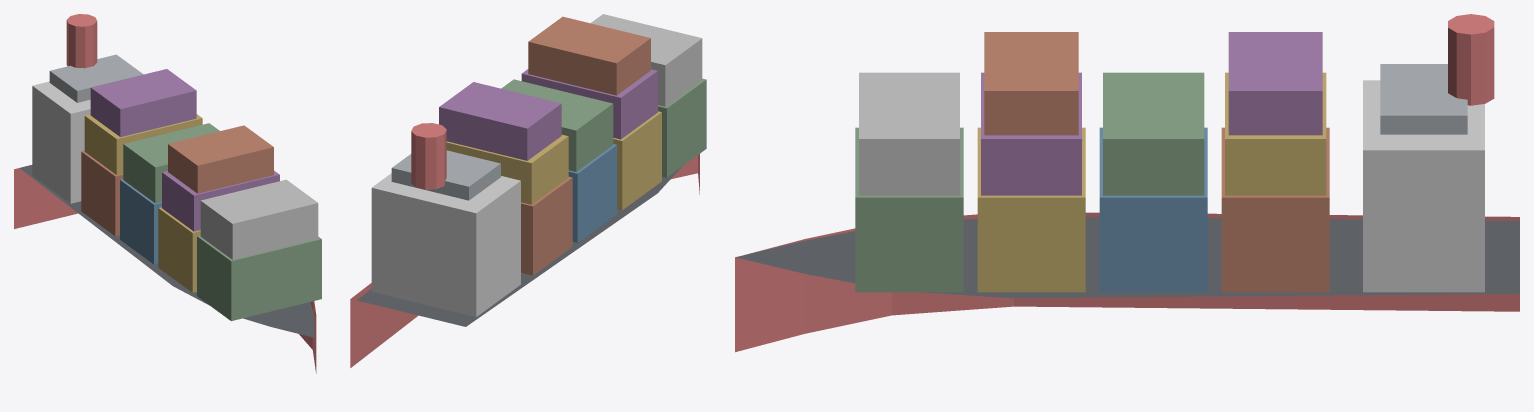
Rendered from container_leaking.glb.
3 views of the same model, side by side, from view 1: azimuth 30°, elevation 25°; view 2: azimuth 150°, elevation 25°; view 3: azimuth 270°, elevation 25° (orthographic). The views are drawn at different scales.
Bounding box in the file's own units: 86.8 × 145 × 315.
